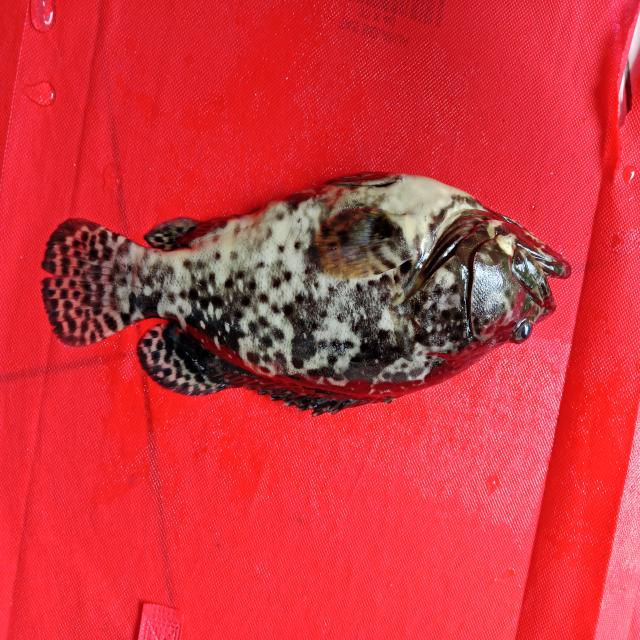ikan: (27, 147, 592, 435)
